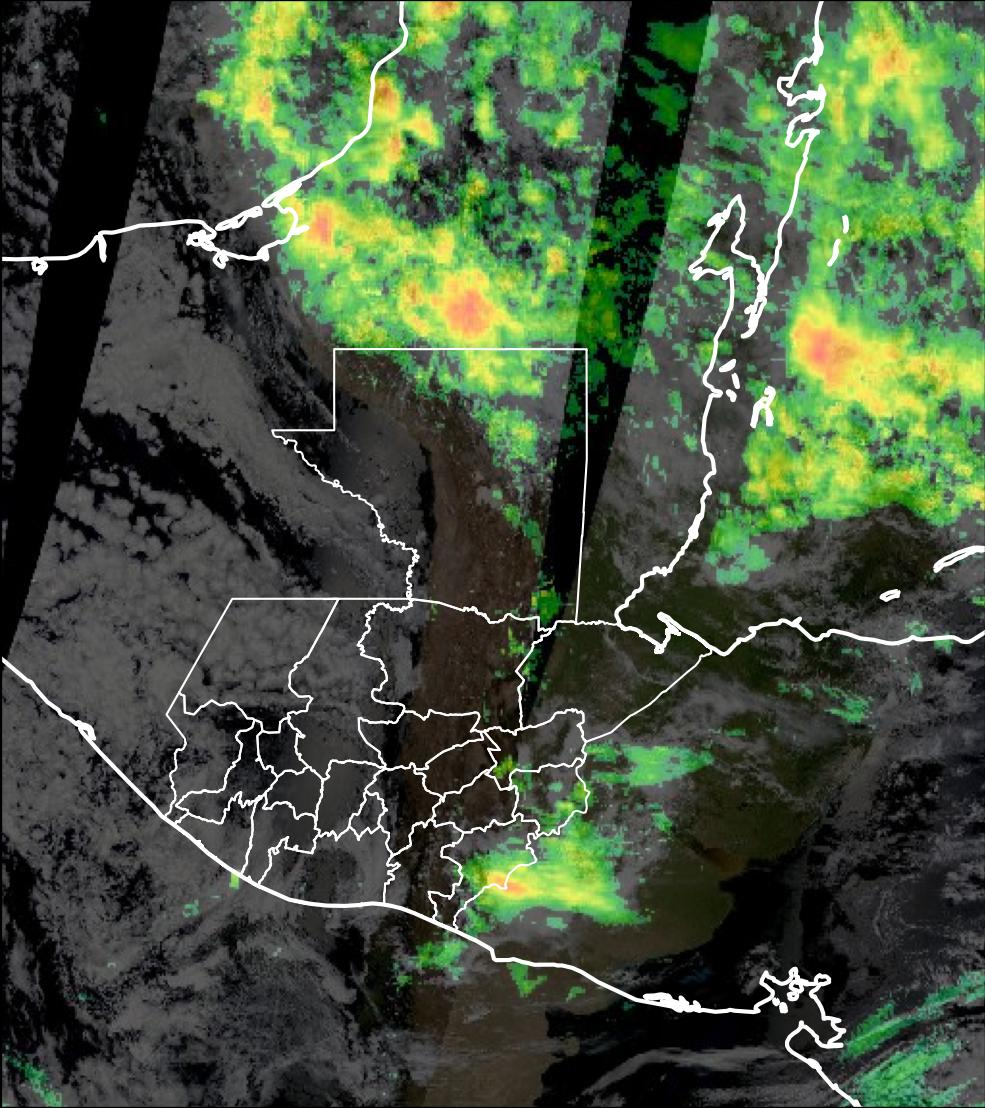precipitacion: (396, 257, 523, 353)
